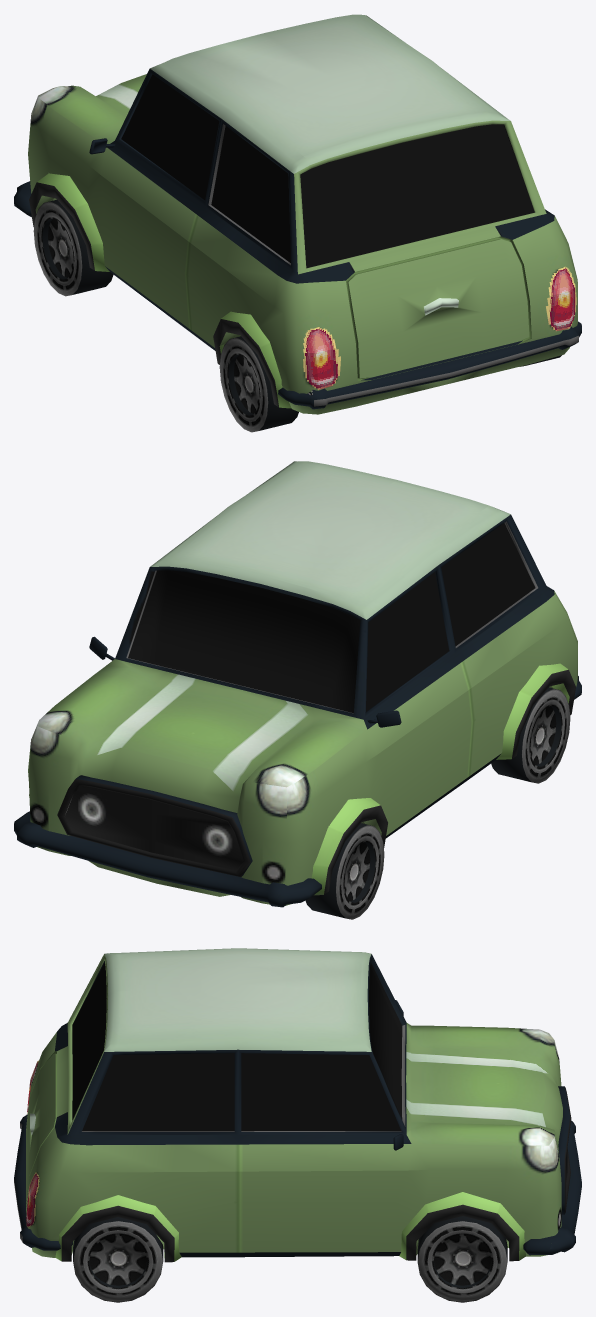
Rendered from taxi05.FBX.
The picture shows the model from 3 angles, top to bottom: view 1: azimuth 30°, elevation 25°; view 2: azimuth 150°, elevation 25°; view 3: azimuth 270°, elevation 25°; orthographic projection. The views are drawn at different scales.
Visible parts, largest first — view 1: CityCar_01_005-0, tyre3-2, tyre1-1, light1-3; view 2: CityCar_01_005-0, tyre3-2, tyre1-1; view 3: CityCar_01_005-0, tyre3-5, tyre2-4, light1-3.
Boxes of the visible parts, x1,y1,x2,y2 form: CityCar_01_005-0: [14, 14, 581, 414]; tyre3-2: [33, 199, 113, 296]; tyre1-1: [219, 336, 298, 432]; light1-3: [303, 266, 576, 389]; CityCar_01_005-0: [14, 461, 581, 907]; tyre3-2: [305, 823, 384, 919]; tyre1-1: [491, 687, 570, 783]; CityCar_01_005-0: [14, 948, 581, 1262]; tyre3-5: [417, 1216, 507, 1302]; tyre2-4: [73, 1217, 163, 1302]; light1-3: [26, 1060, 39, 1227].
Bounding box in the file's own units: 24.79 × 20.33 × 41.93.
Materials: 2 (2 with a texture image).
